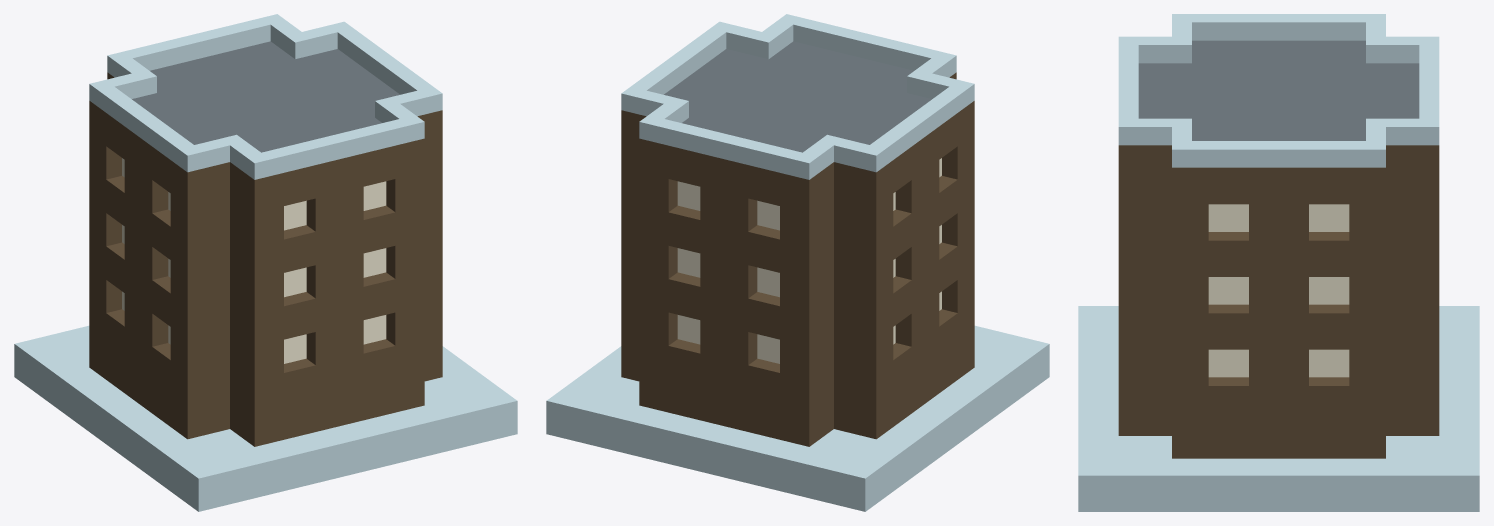
Rendered from Building_4_Base (Brown).obj.
3 renders of one model, left to right at view 1: azimuth 30°, elevation 25°; view 2: azimuth 150°, elevation 25°; view 3: azimuth 270°, elevation 25°, orthographic. The views are drawn at different scales.
Parts seen in each view (by area): view 1: Building_4_Base_(Brown); view 2: Building_4_Base_(Brown); view 3: Building_4_Base_(Brown).
Part boxes in pixels (x1,y1,x2,y2): Building_4_Base_(Brown): [14, 14, 517, 511]; Building_4_Base_(Brown): [546, 14, 1049, 511]; Building_4_Base_(Brown): [1078, 14, 1479, 511].
Bounding box in the file's own units: 2 × 1.9 × 2.
